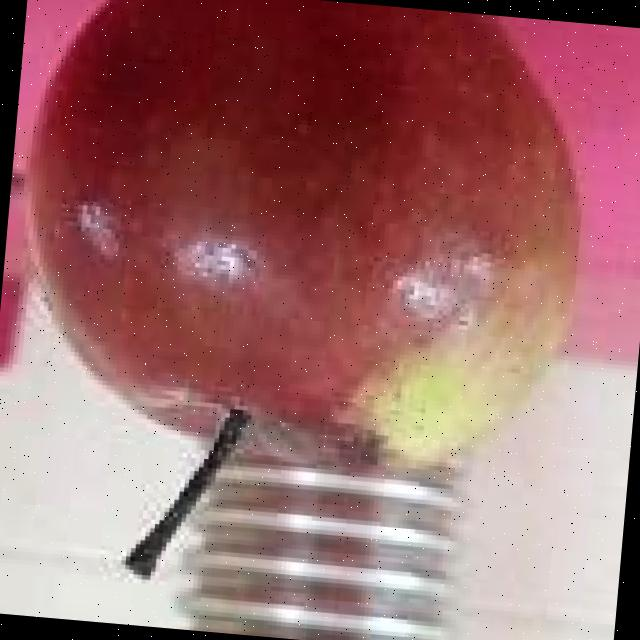Good_Apple 10-21 days: (31, 0, 577, 573), (29, 0, 573, 433)
